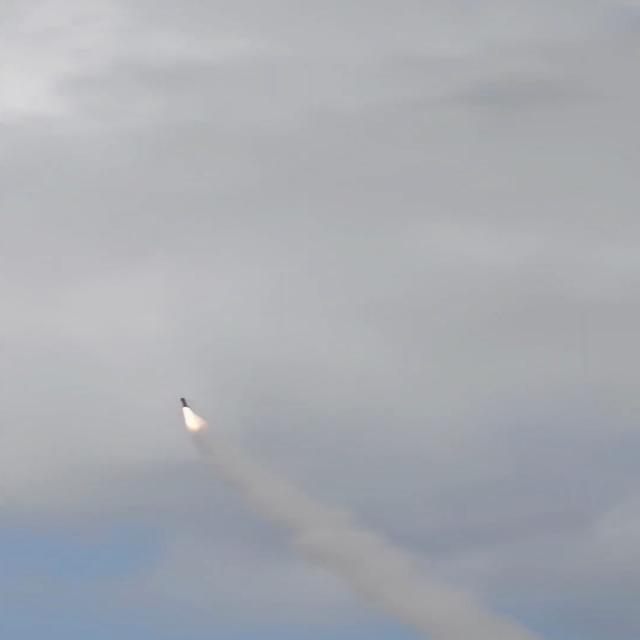Missile: (179, 396, 192, 411)
